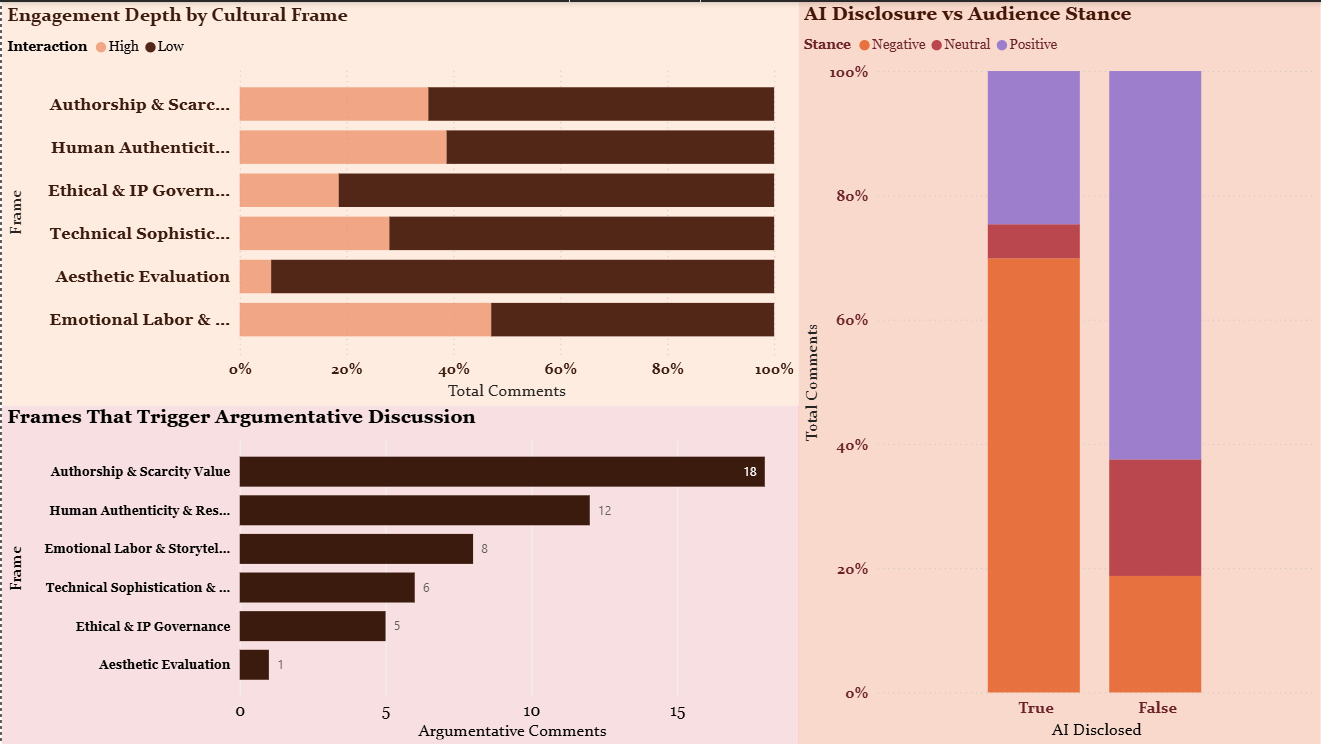

What the dashboard file says about the page in this screenshot:
{"tool":"powerbi","page":{"name":"Audience Overview Discussion Dynamics","canvas":[1280,720],"ordinal":1},"visuals":[{"type":"hundredPercentStackedBarChart","title":"Engagement Depth by Cultural Frame","fields":{"Category":["168 Records.frame_manual"],"Series":["168 Records.interaction_depth"],"Y":["168 Records.Total Comments"]},"box":[0,0,772.9,391.2],"z":0},{"type":"hundredPercentStackedColumnChart","title":"AI Disclosure vs Audience Stance","fields":{"Category":["168 Records.ai_disclosed"],"Series":["168 Records.stance_manual"],"Y":["168 Records.Total Comments"]},"box":[772.9,0,506.5,720],"z":1000},{"type":"clusteredBarChart","title":"Frames That Trigger Argumentative Discussion","fields":{"Y":["168 Records.Argumentative Comments"],"Category":["168 Records.frame_manual"]},"box":[0,391,773,329],"z":2000}]}

Visuals, with their boxes in screenshot pixels (x1, y1, x2, y2), scaled from the page's 1280x720 canvas onto the 1321x744 screenshot:
"Engagement Depth by Cultural Frame" hundredPercentStackedBarChart: (0,0,798,404)
"AI Disclosure vs Audience Stance" hundredPercentStackedColumnChart: (798,0,1320,743)
"Frames That Trigger Argumentative Discussion" clusteredBarChart: (0,404,798,743)
